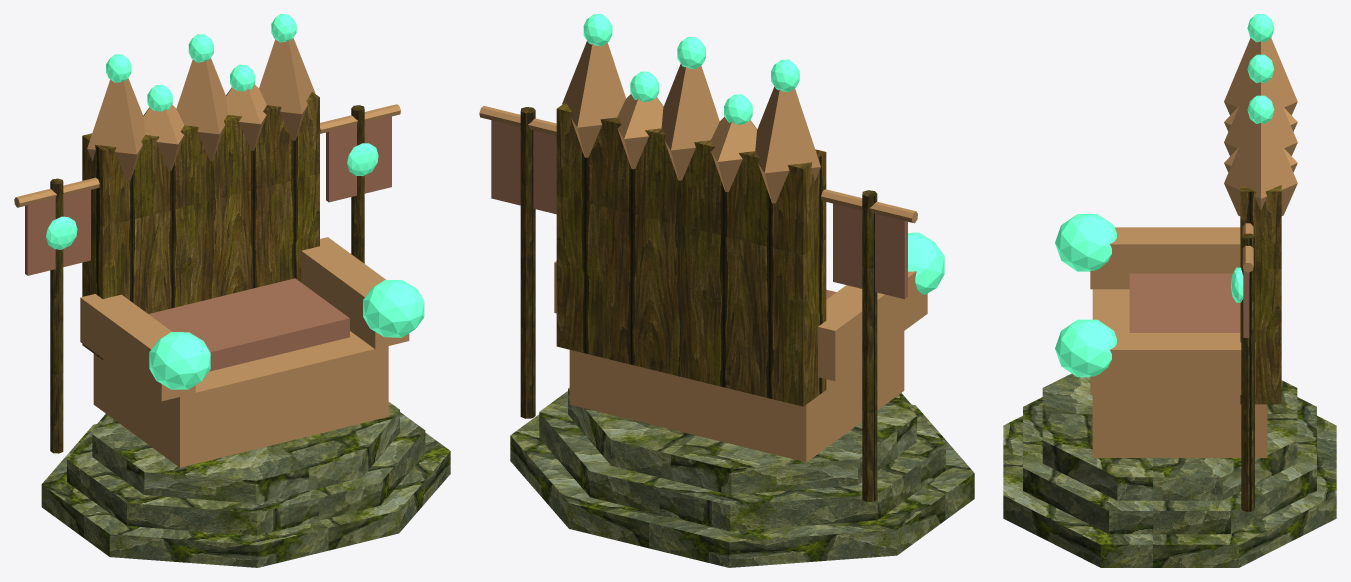
Rendered from 13-quak-throne.glb.
3 renders of one model, left to right at view 1: azimuth 30°, elevation 25°; view 2: azimuth 150°, elevation 25°; view 3: azimuth 270°, elevation 25°, orthographic. The views are drawn at different scales.
Visible parts, largest first — view 1: 13-quak-throne; view 2: 13-quak-throne; view 3: 13-quak-throne.
Boxes of the visible parts, x1,y1,x2,y2 form: 13-quak-throne: (14,14,450,567); 13-quak-throne: (479,14,974,567); 13-quak-throne: (1003,14,1336,567).
Size of the model in its own units: 3.14 by 3.33 by 2.35.
Materials: 6 (3 with a texture image).
